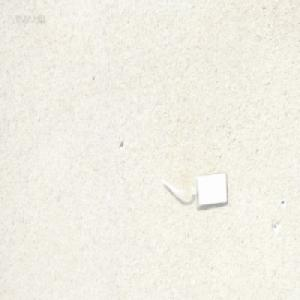LuggageTag: (158, 168, 228, 209)
